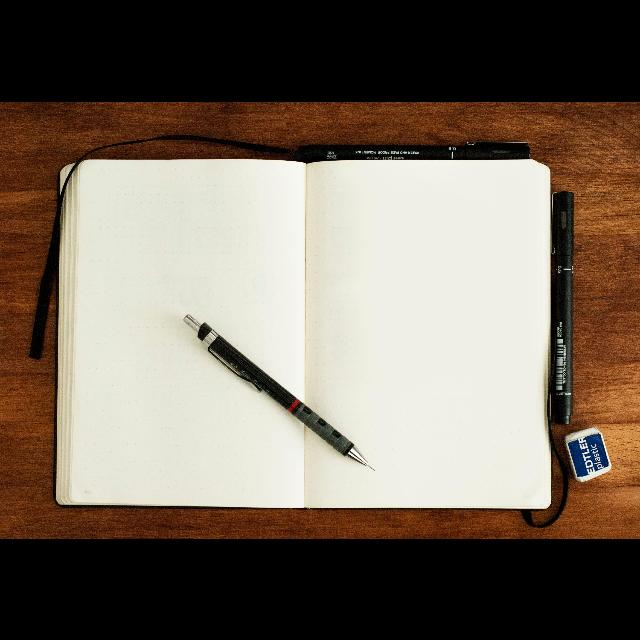papel: (54, 156, 554, 509)
